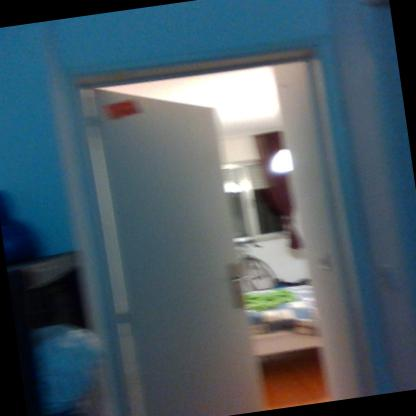semi: (58, 35, 382, 415)
